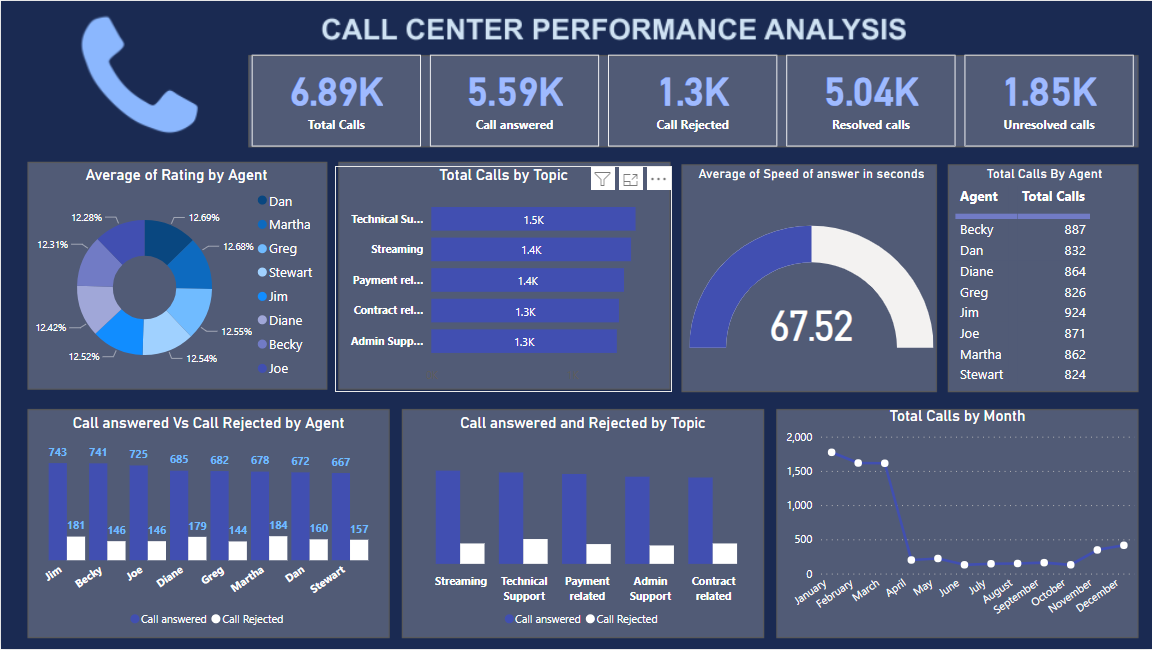

This screenshot's page, from the dashboard's own definition file:
{"tool":"powerbi","page":{"name":"Page 1","canvas":[1280,720],"ordinal":0},"visuals":[{"type":"cardVisual","fields":{"Data":["Sheet1.Total Calls","Sheet1.Call answered","Sheet1.Call Rejected","Sheet1.Resolved calls","Sheet1.Unresolved calls"]},"box":[275.7,57.1,988.6,108.6],"z":0},{"type":"tableEx","title":"Total Calls By Agent","fields":{"Values":["Sheet1.Agent","Sheet1.Total Calls"]},"box":[1054.3,182.9,210,251.4],"z":1000},{"type":"gauge","fields":{"Y":["Sheet1.Speed of answer in seconds"]},"box":[760,183.3,281.1,251.1],"z":2000},{"type":"clusteredBarChart","fields":{"Category":["Sheet1.Topic"],"Y":["Sheet1.Total Calls"]},"box":[371.4,182.9,374.3,251.4],"z":3000},{"type":"clusteredColumnChart","title":"Call answered and Rejected by Topic","fields":{"Y":["Sheet1.Call answered","Sheet1.Call Rejected"],"Category":["Sheet1.Topic"]},"box":[440,458.6,412.9,245.7],"z":4000},{"type":"donutChart","title":"Average of Rating by Agent","fields":{"Category":["Sheet1.Agent"],"Y":["Sheet1.Satisfaction rating"]},"box":[30,183.3,330,251.1],"z":5000},{"type":"clusteredColumnChart","title":"Call answered Vs Call Rejected by Agent","fields":{"Y":["Sheet1.Call answered","Sheet1.Call Rejected"],"Category":["Sheet1.Agent"]},"box":[30,458.6,401.4,245.7],"z":6000},{"type":"lineChart","fields":{"Category":["Sheet1.Date.Variation.Date Hierarchy.Month"],"Y":["Sheet1.Total Calls"]},"box":[861.1,451.1,403.3,253.3],"z":7000}]}

Visuals, with their boxes in screenshot pixels (x1, y1, x2, y2), scaled from the page's 1280x720 canvas onto the 1152x650 screenshot:
cardVisual - Sheet1.Total Calls x Sheet1.Call answered: pyautogui.locateOnScreen(248, 52, 1138, 150)
"Total Calls By Agent" tableEx: pyautogui.locateOnScreen(949, 165, 1138, 392)
gauge - Sheet1.Speed of answer in seconds: pyautogui.locateOnScreen(684, 165, 937, 392)
clusteredBarChart - Sheet1.Topic x Sheet1.Total Calls: pyautogui.locateOnScreen(334, 165, 671, 392)
"Call answered and Rejected by Topic" clusteredColumnChart: pyautogui.locateOnScreen(396, 414, 768, 636)
"Average of Rating by Agent" donutChart: pyautogui.locateOnScreen(27, 165, 324, 392)
"Call answered Vs Call Rejected by Agent" clusteredColumnChart: pyautogui.locateOnScreen(27, 414, 388, 636)
lineChart - Sheet1.Date.Variation.Date Hierarchy.Month x Sheet1.Total Calls: pyautogui.locateOnScreen(775, 407, 1138, 636)
